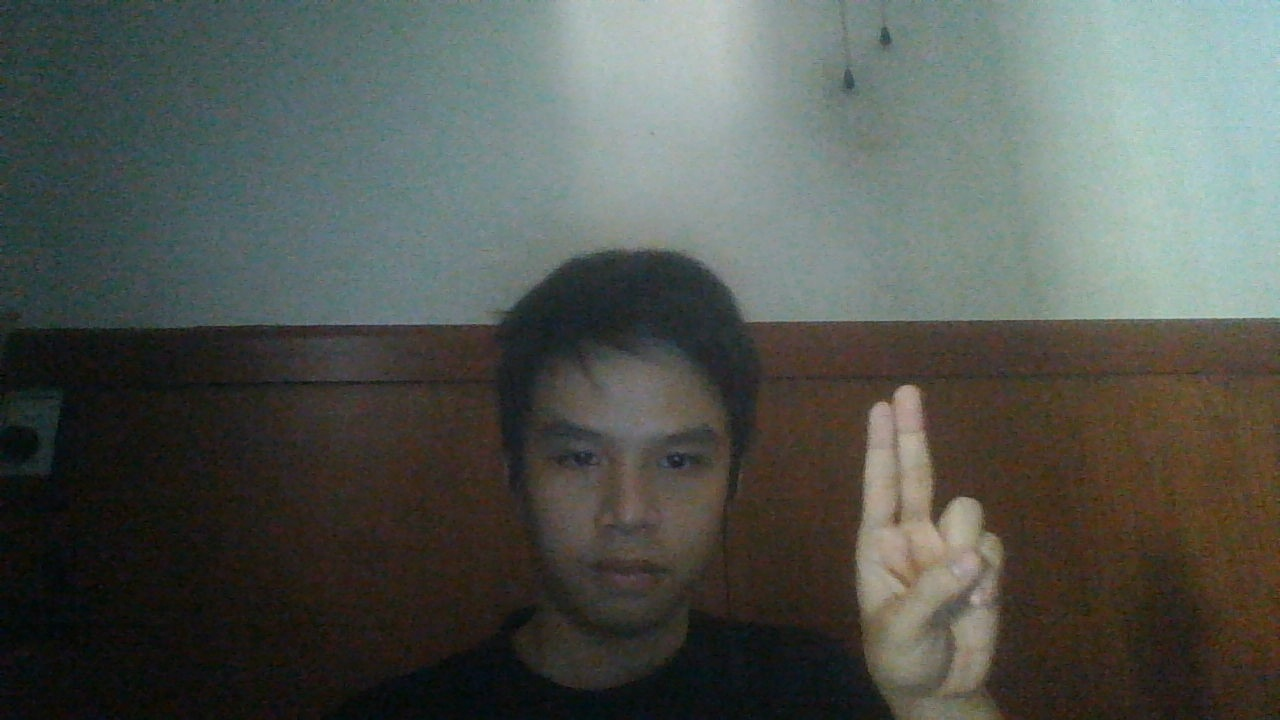write2: (851, 385, 1007, 697)
